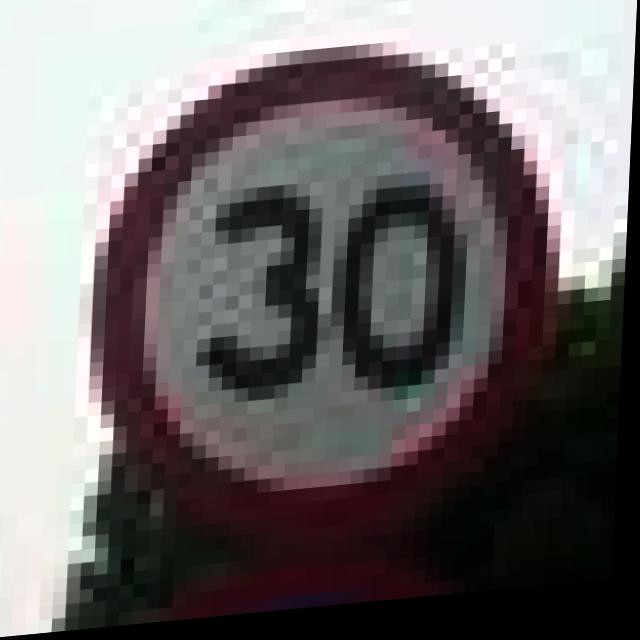SPEED_LIMIT_30: (90, 29, 567, 554)
